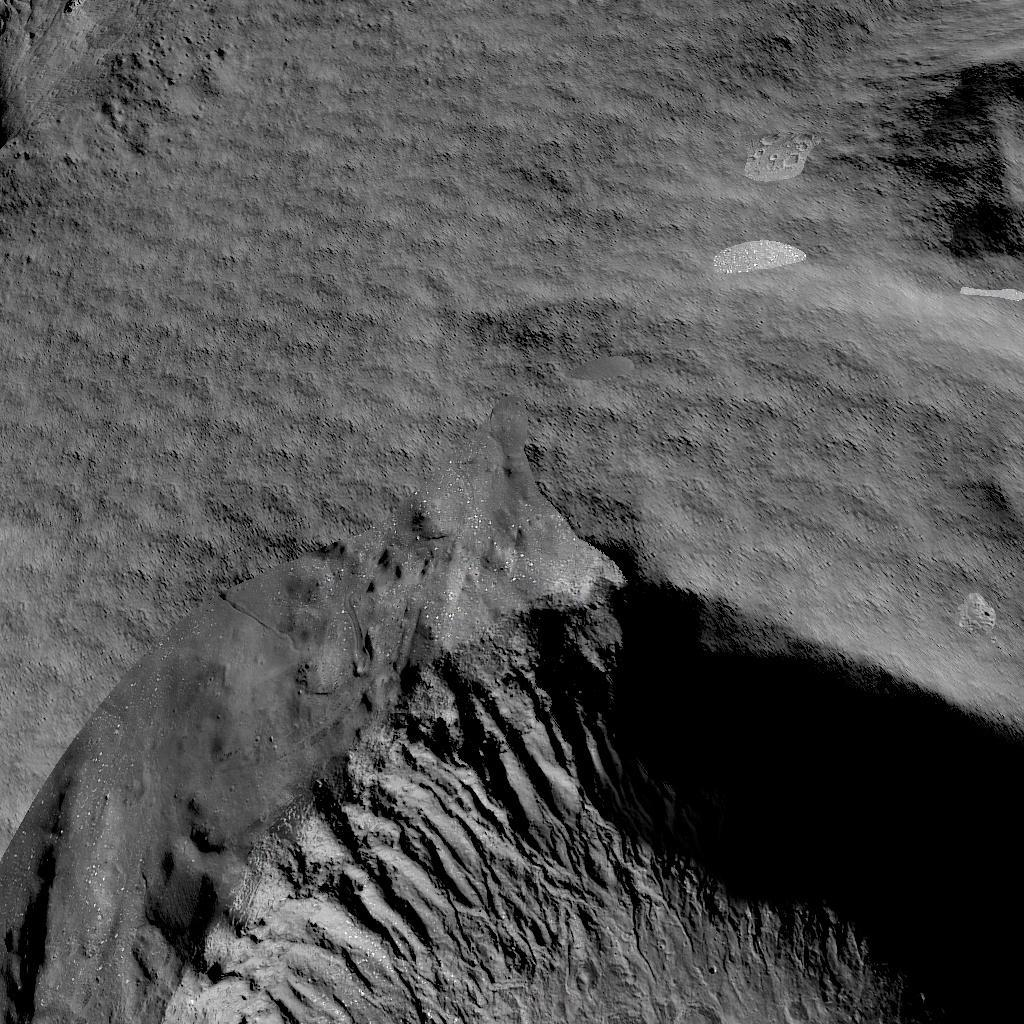Boulders: (0, 2, 257, 221)
Crater: (0, 432, 1024, 1024), (884, 53, 1022, 261)
Plan surface: (2, 248, 798, 396), (309, 0, 779, 194)
